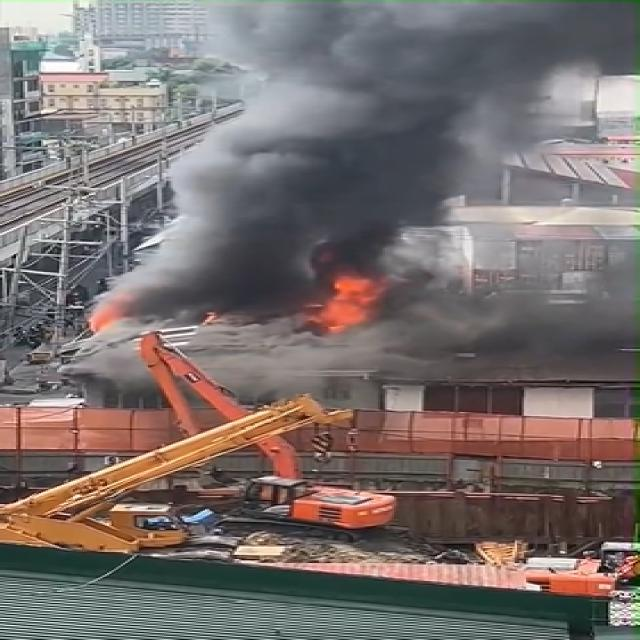Fire: (310, 271, 384, 335), (85, 304, 131, 329)
Smoke: (91, 0, 640, 330)
